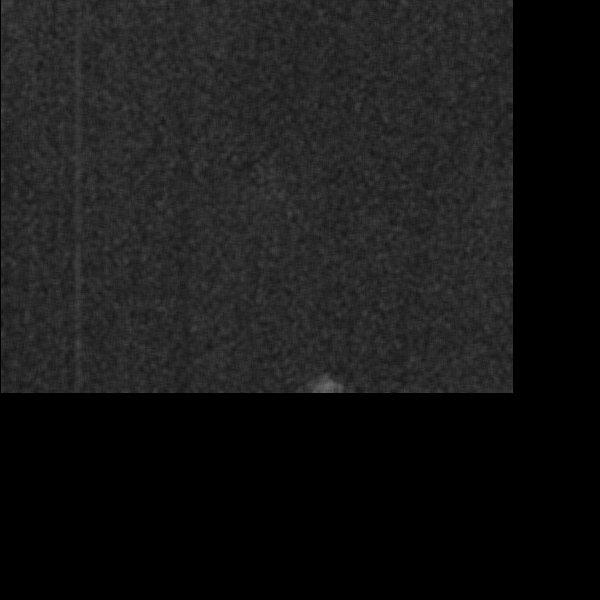spark: (249, 124, 299, 150)
